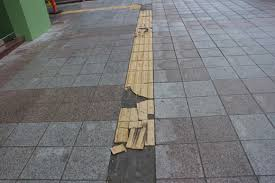guide_blocks: (134, 11, 154, 93), (64, 3, 140, 13)
